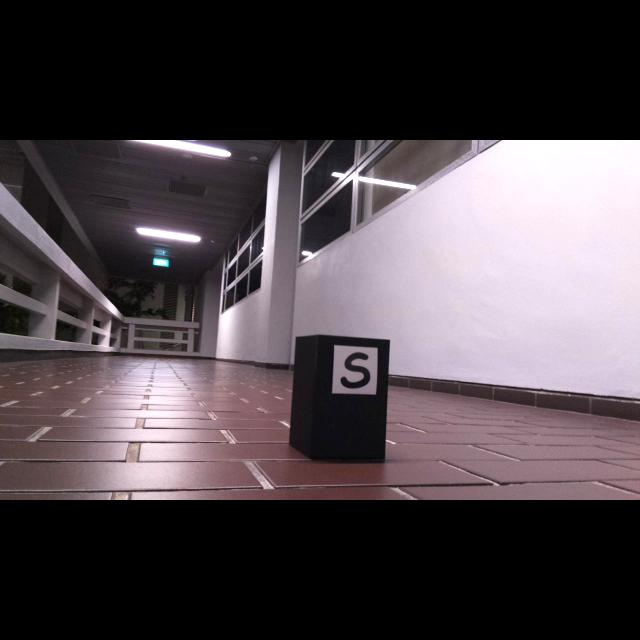S: (340, 352, 371, 389)
